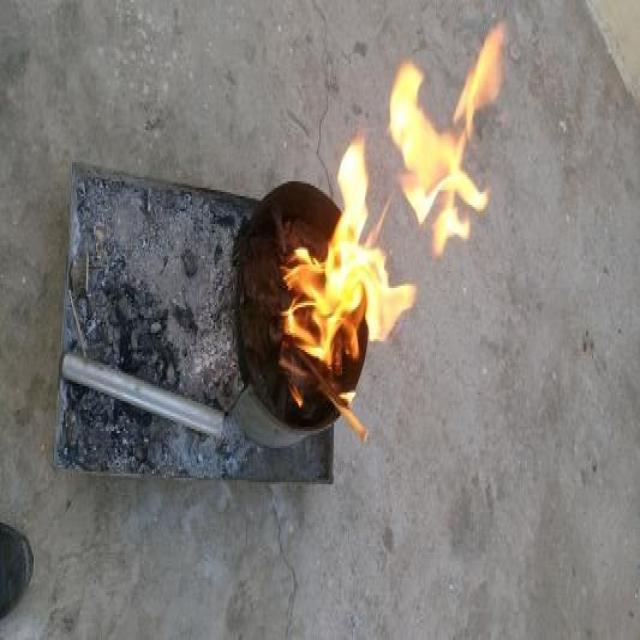Fire: (276, 19, 504, 410)
